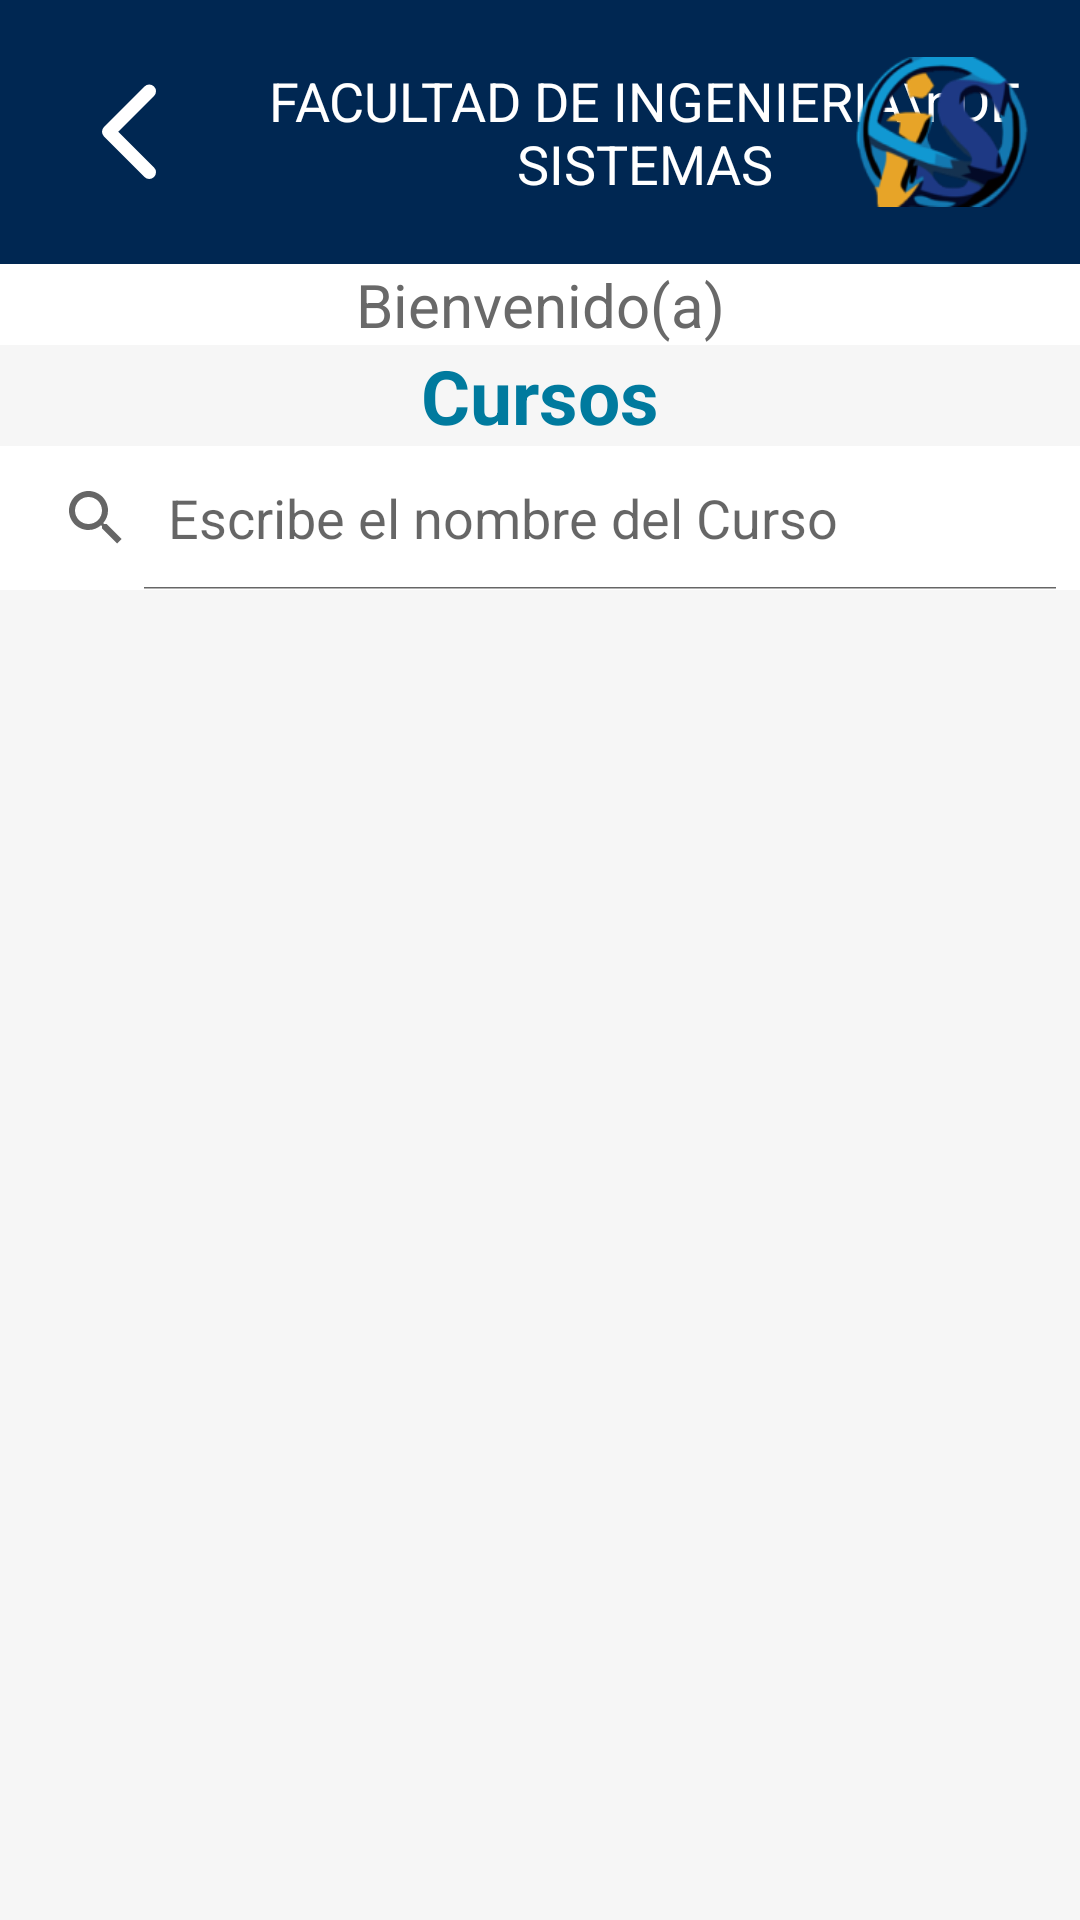

Locate icon controls on the screen. Image size 1080px x 1920px, boxes as (x1,y1,x2,y2).
volver: (102,84,156,179)
